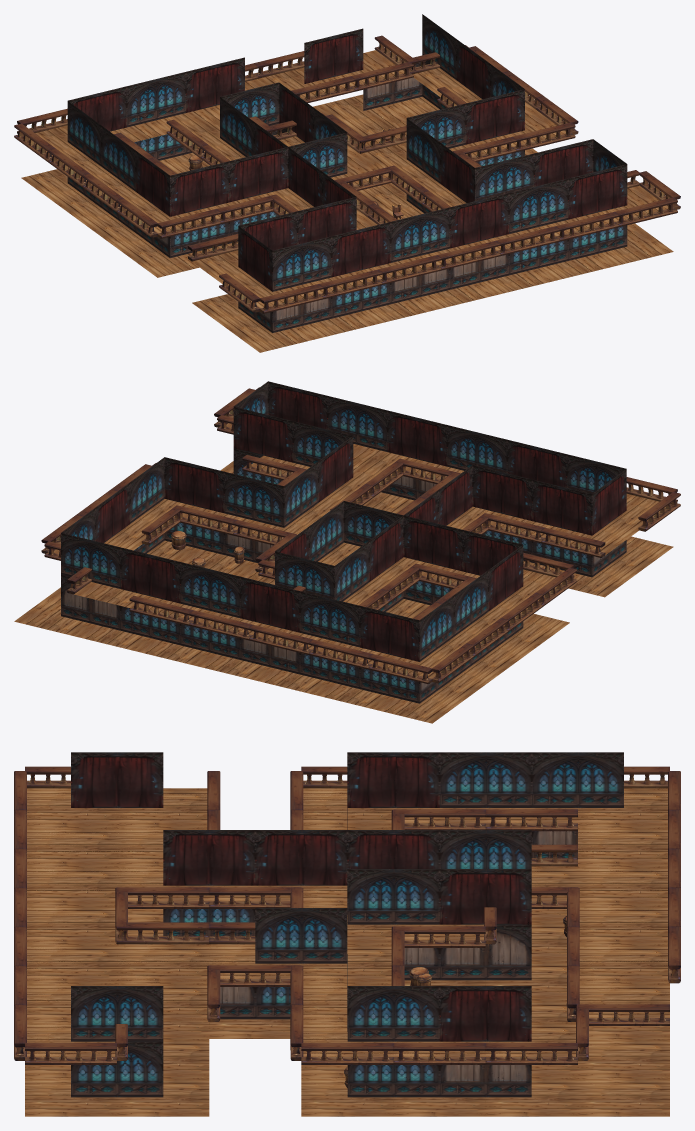
Rendered from inn_map_procedural.glb.
The picture shows the model from 3 angles, top to bottom: view 1: azimuth 30°, elevation 25°; view 2: azimuth 150°, elevation 25°; view 3: azimuth 270°, elevation 25°; orthographic projection. The views are drawn at different scales.
Parts seen in each view (by area): view 1: Dungeon; view 2: Dungeon; view 3: Dungeon.
Part boxes in pixels (x1,y1,x2,y2): Dungeon: (14, 14, 680, 352); Dungeon: (14, 381, 680, 723); Dungeon: (14, 752, 680, 1116).
Bounding box in the file's own units: 86.86 × 16.16 × 86.86.
Materials: 7 (7 with a texture image).
